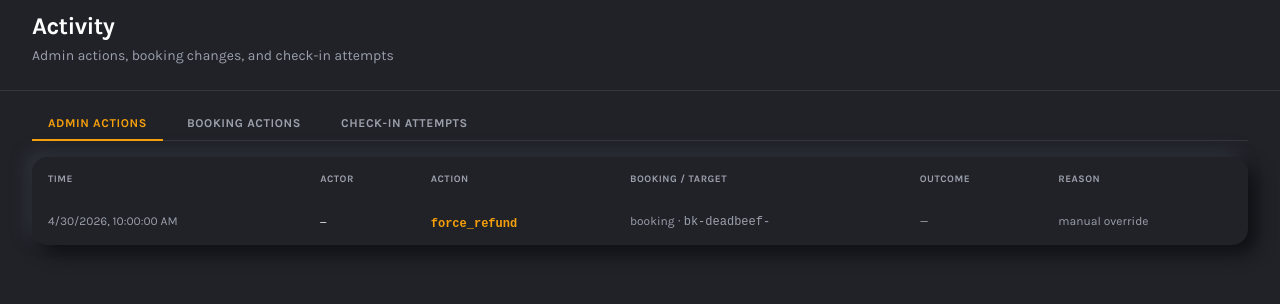
Test: AdminAuditLog — tabs, buttons, and idempotency-aware copy › clicking "Booking actions" filters to source=rpc rows and renders refund/kept amounts
This screenshot has width=1280, height=304.
Click the button "Booking actions" at (244, 124), box [171,107,317,141]
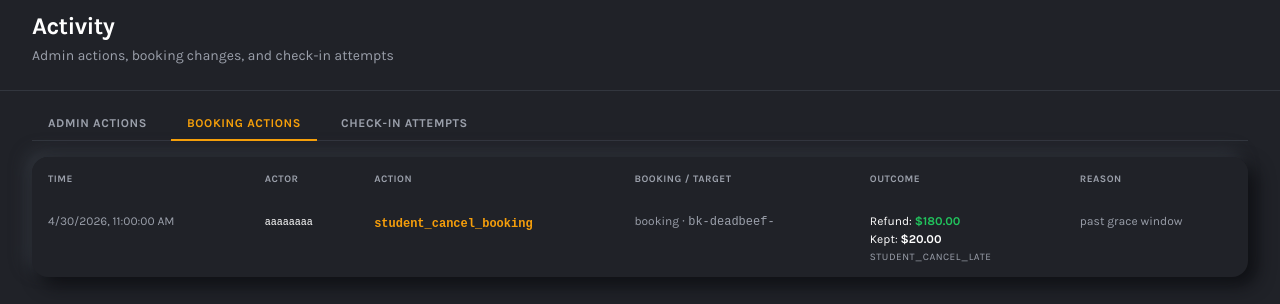
Result: the text "$180.00" is shown at [915,214,960,228]
Result: the text "$20.00" is shown at [901,232,942,246]
Result: the text "student_cancel_late" is shown at [870,251,991,263]
